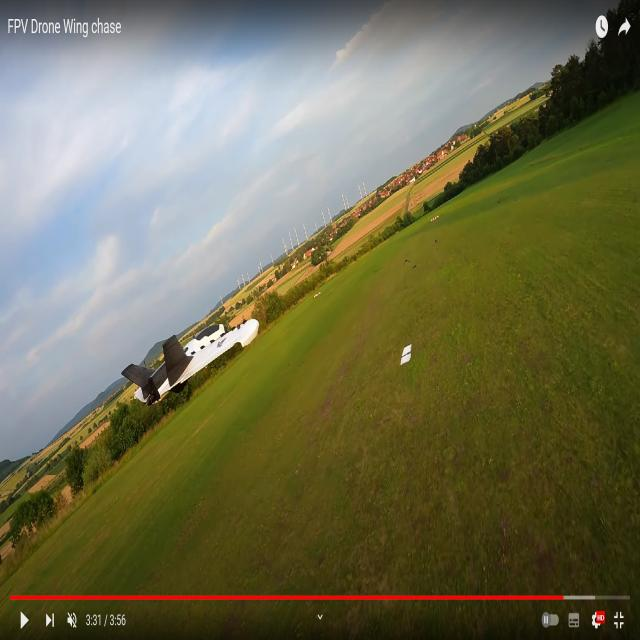iha: (128, 339, 260, 388)
